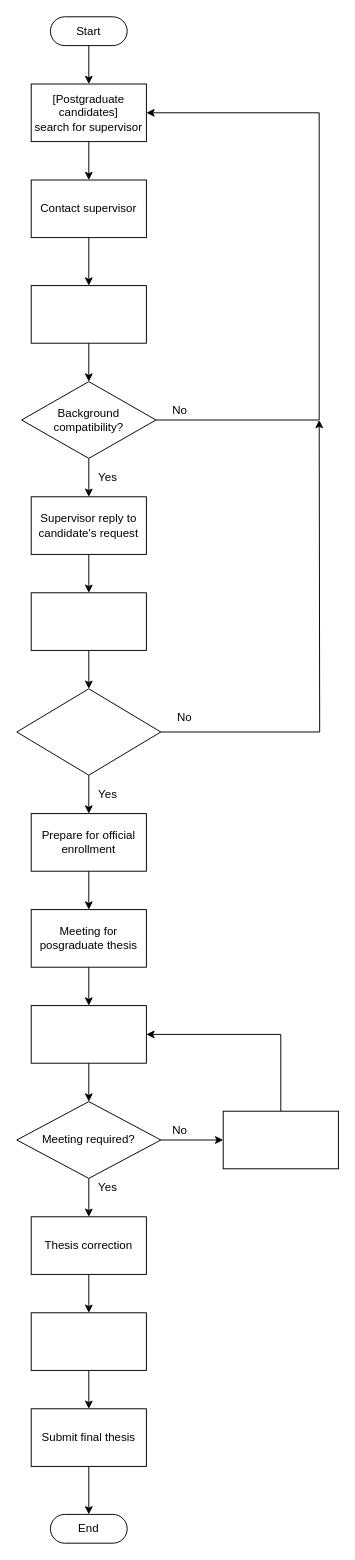
This 355x1560 diagram has some shape labels left out. The shapes that lost their labels are listed below. From the top down, each one's centre as x and y in pixels, then its label:
At point 88,314: "[Supervisor] review candidate profile & background".
At point 88,621: "Schedule meeting between supervisor and candidate".
At point 88,731: "Request acceptance confirmation?".
At point 88,1034: "Track thesis progress".
At point 280,1139: "Submit thesis by phase".
At point 88,1341: "Review final thesis".
